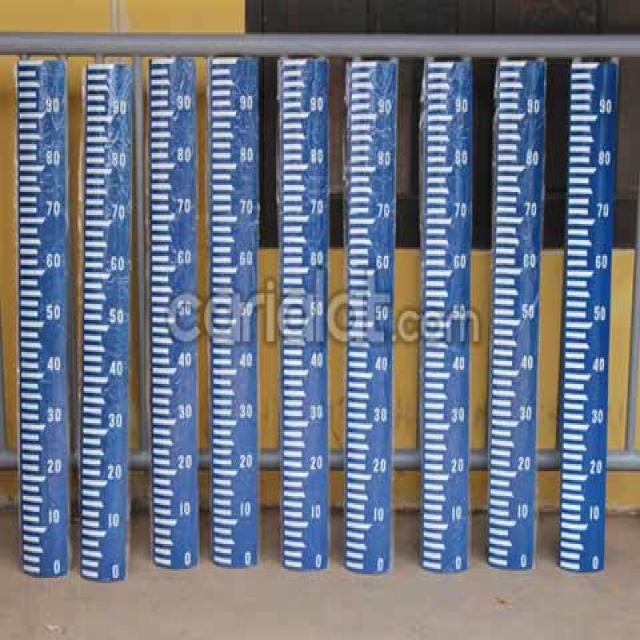staff: (79, 59, 142, 581), (12, 51, 73, 580), (276, 54, 332, 571), (147, 51, 202, 573), (562, 54, 616, 574), (210, 46, 262, 577), (421, 59, 474, 572), (493, 55, 543, 577), (343, 56, 391, 572)
